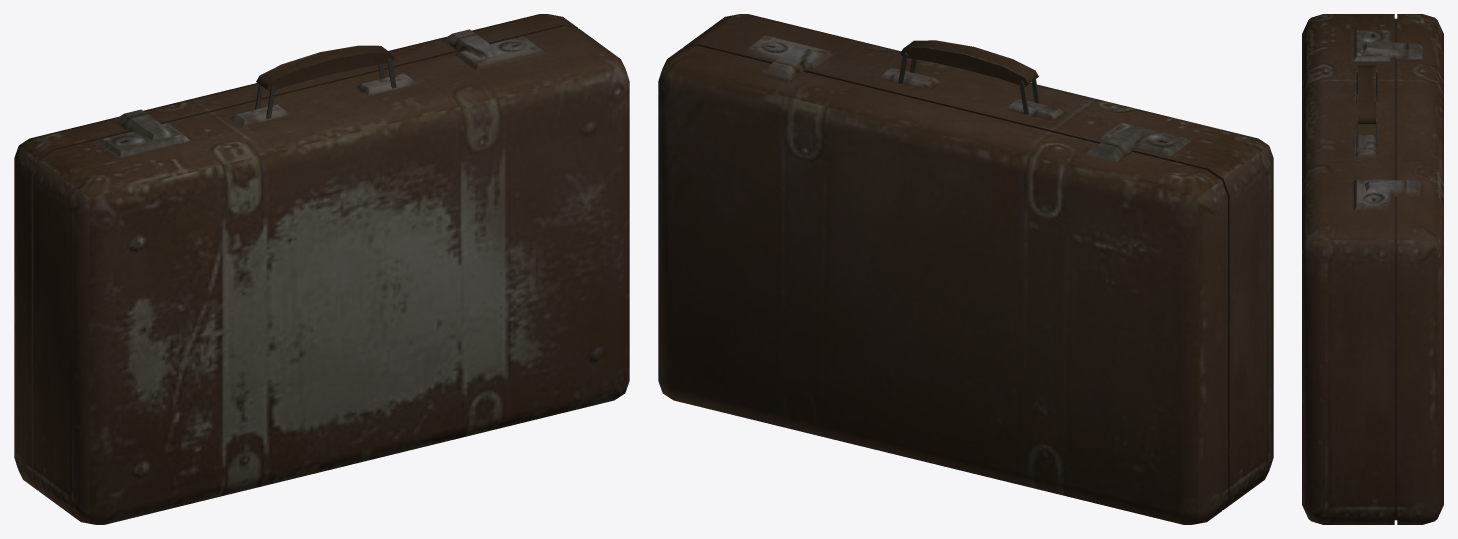
The model's file is luggage_mp_1.dae.
3 views of the same model, side by side, from view 1: azimuth 30°, elevation 25°; view 2: azimuth 150°, elevation 25°; view 3: azimuth 270°, elevation 25° (orthographic). The views are drawn at different scales.
Parts seen in each view (by area): view 1: luggage_mp_1; view 2: luggage_mp_1; view 3: luggage_mp_1.
Boxes of the visible parts, box(x1,y1,x2,y2) form: luggage_mp_1: box(14, 14, 629, 524); luggage_mp_1: box(658, 14, 1273, 524); luggage_mp_1: box(1302, 14, 1443, 524).
Bounding box in the file's own units: 0.7726 × 0.2 × 0.5268.
Materials: 1 (1 with a texture image).
